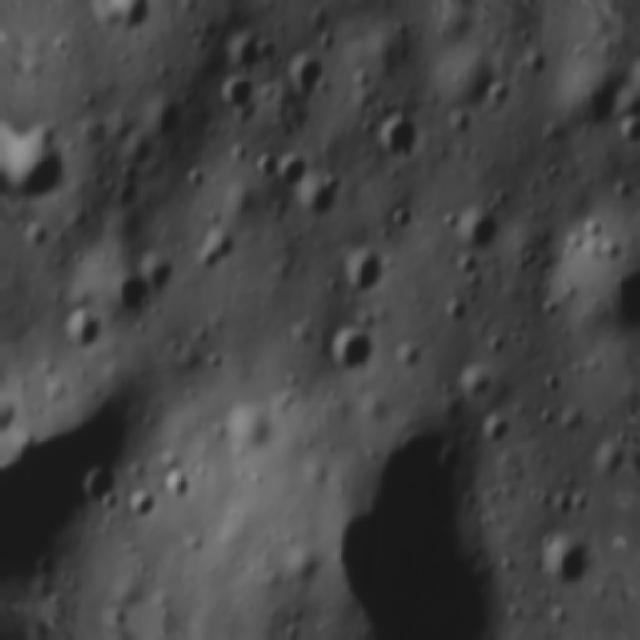crater: (307, 411, 516, 640), (0, 390, 143, 621), (549, 227, 640, 361), (10, 117, 76, 211), (524, 523, 596, 605), (320, 243, 388, 309), (316, 319, 381, 387), (281, 165, 341, 232), (182, 218, 242, 284), (369, 102, 426, 168), (446, 202, 506, 264), (63, 456, 128, 513), (89, 0, 162, 49), (104, 263, 158, 329), (215, 18, 272, 80), (280, 44, 332, 110), (208, 71, 262, 129), (260, 144, 312, 202), (137, 89, 185, 149), (448, 356, 501, 410), (57, 302, 100, 361), (116, 484, 162, 538), (538, 486, 592, 531), (474, 411, 518, 455), (272, 546, 318, 588), (112, 131, 156, 174), (590, 439, 628, 487), (152, 466, 192, 508), (376, 202, 418, 241), (298, 8, 334, 52), (518, 44, 552, 88), (550, 403, 587, 442), (175, 159, 212, 196), (0, 382, 22, 444), (609, 114, 640, 158), (611, 83, 640, 129), (110, 180, 148, 215), (390, 337, 424, 374), (437, 294, 469, 331), (438, 109, 470, 146), (475, 335, 511, 367), (484, 79, 514, 113), (306, 32, 340, 62), (537, 370, 572, 399), (197, 344, 226, 378), (512, 246, 540, 279), (626, 48, 640, 103), (35, 0, 79, 6), (260, 631, 292, 638), (223, 628, 254, 634)
